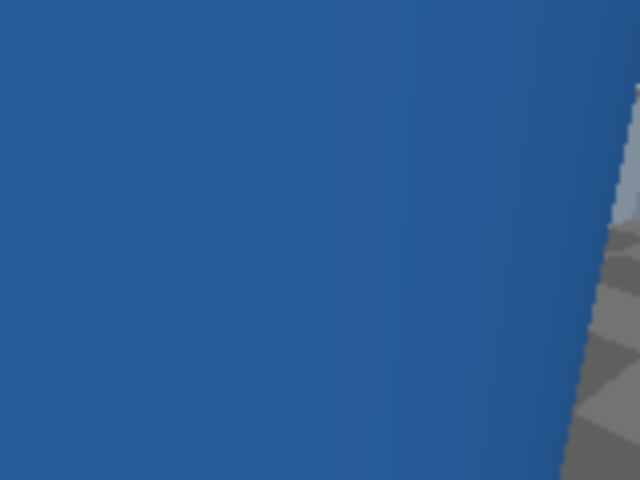obstacle: (153, 150, 190, 206)
traffic_light: (115, 83, 163, 181)
